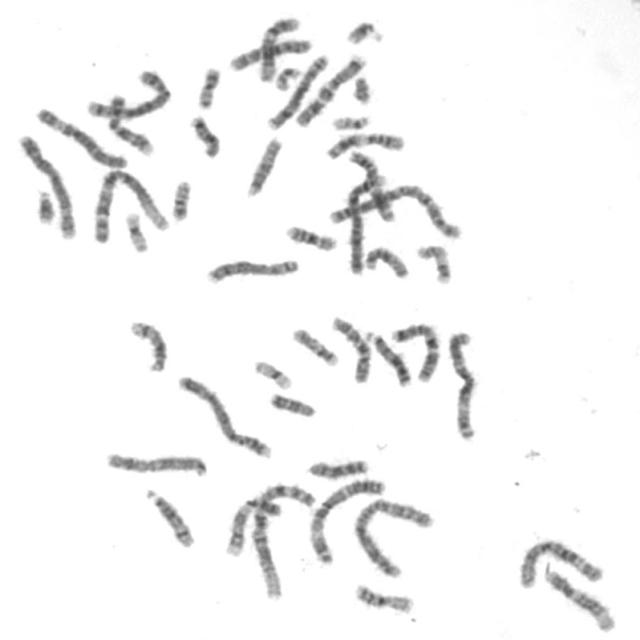A1: (247, 478, 318, 602), (88, 164, 172, 246)
A2: (330, 176, 462, 257), (349, 492, 437, 581)
A3: (303, 473, 388, 565), (444, 325, 481, 441)
B4: (173, 370, 275, 461), (336, 172, 391, 277)
B5: (14, 130, 80, 242), (82, 64, 174, 120)
C10: (226, 33, 314, 73), (327, 311, 374, 384)
C11: (344, 145, 399, 224), (322, 127, 408, 161)
C12: (542, 564, 620, 634), (254, 11, 302, 82)
C6: (31, 102, 130, 170), (514, 534, 607, 591)
C7: (289, 50, 369, 128), (387, 317, 444, 384)
C8: (263, 50, 331, 132), (202, 254, 302, 286)
C9: (221, 495, 285, 558), (103, 90, 157, 157)
D13: (360, 325, 415, 389), (302, 452, 372, 484)
D14: (140, 484, 198, 550), (125, 316, 169, 374)
D15: (241, 132, 285, 199), (360, 240, 411, 280)
E16: (350, 579, 416, 615), (282, 220, 339, 252)
E17: (288, 324, 342, 367), (412, 239, 454, 286)
E18: (185, 111, 222, 159), (266, 388, 318, 420)
F19: (250, 356, 294, 391), (120, 207, 151, 253)
F20: (192, 61, 223, 110), (167, 175, 193, 223)
G21: (342, 14, 386, 46), (31, 184, 57, 226)
G22: (271, 62, 304, 92), (328, 110, 373, 132)
X: (102, 447, 210, 479)
Y: (349, 71, 374, 105)
